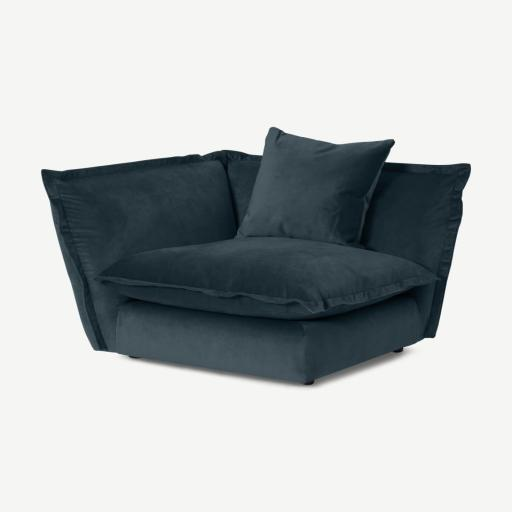back_cushion: (43, 126, 469, 345)
base: (99, 288, 407, 386)
one-seater: (42, 126, 470, 386)
seat_cushion: (82, 234, 430, 325)
